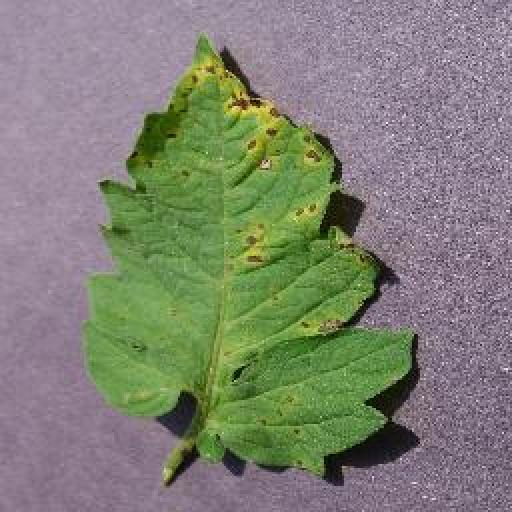Septoria: (83, 34, 418, 478)
